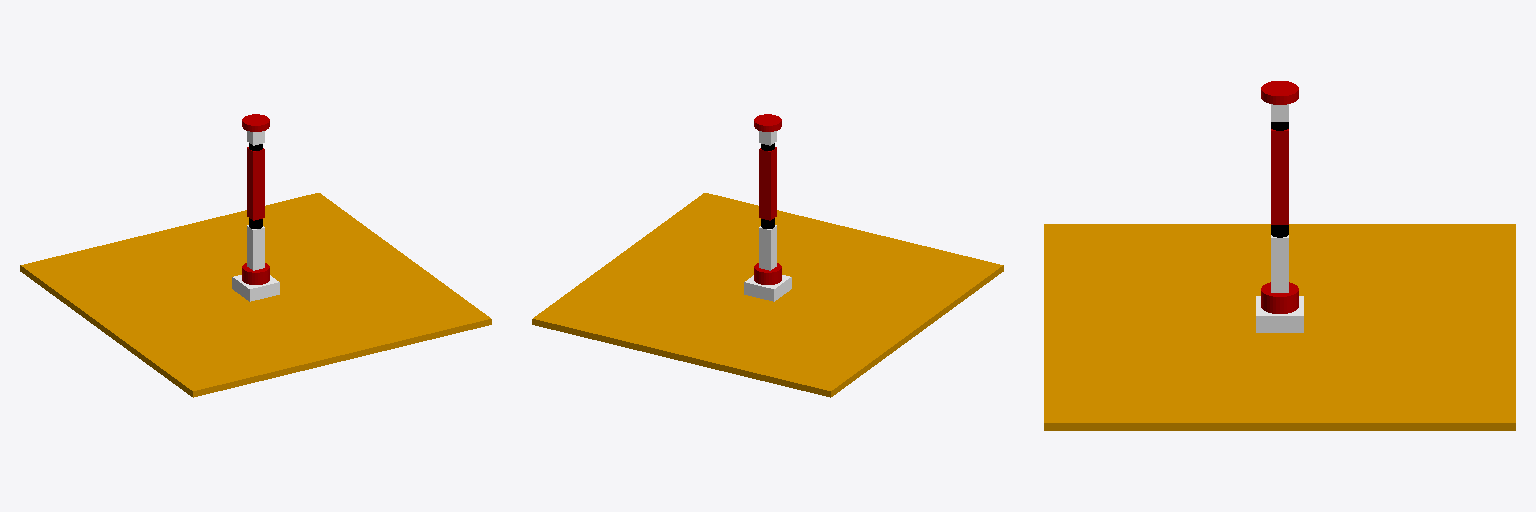
URDF robot description (seven_dof_arm):
<?xml version="1.0" ?>
<!-- =================================================================================== -->
<!-- |    This document was autogenerated by xacro from my_manipulator.urdf.xacro      | -->
<!-- |    EDITING THIS FILE BY HAND IS NOT RECOMMENDED                                 | -->
<!-- =================================================================================== -->
<robot name="seven_dof_arm">
  <!-- Include materials -->
  <material name="Black">
    <color rgba="0.0 0.0 0.0 1.0"/>
  </material>
  <material name="Red">
    <color rgba="0.8 0.0 0.0 1.0"/>
  </material>
  <material name="White">
    <color rgba="1.0 1.0 1.0 1.0"/>
  </material>
  <property name="deg_to_rad" value="0.01745329251994329577"/>
  <!-- BOTTOM FIXED LINK 
This link is the base of the arm in which arm is placed 

-->
  <!-- ///////////////////////////////////////////////////////////////////////////////////////////////////////////////////// -->
  <joint name="bottom_joint" type="fixed">
    <origin rpy="0 0 0" xyz="0 0 0"/>
    <parent link="base_link"/>
    <child link="bottom_link"/>
  </joint>
  <link name="bottom_link">
    <visual>
      <origin rpy="0 0 0" xyz=" 0 0 0.0"/>
      <geometry>
        <box size="1 1 0.02"/>
      </geometry>
      <material name="Brown"/>
    </visual>
    <collision>
      <origin rpy="0 0 0" xyz=" 0 0 0.0"/>
      <geometry>
        <box size="1 1 0.02"/>
      </geometry>
    </collision>
  </link>
  <gazebo reference="bottom_link">
    <material>Gazebo/White</material>
  </gazebo>
  <!-- ///////////////////////////////////////////////////////////////////////////////////////////////////////////////////// -->
  <!-- BASE LINK -->
  <link name="base_link">
    <visual>
      <origin rpy="0 0 0" xyz="0 0 0"/>
      <geometry>
        <box size="0.1 0.1 0.1"/>
      </geometry>
      <material name="White"/>
    </visual>
    <collision>
      <origin rpy="0 0 0" xyz="0 0 0"/>
      <geometry>
        <box size="0.1 0.1 0.1"/>
      </geometry>
    </collision>
    <inertial>
      <mass value="1"/>
      <inertia ixx="1.0" ixy="0.0" ixz="0.0" iyy="0.5" iyz="0.0" izz="1.0"/>
    </inertial>
  </link>
  <gazebo reference="base_link">
    <material>Gazebo/White</material>
  </gazebo>
  <joint name="shoulder_pan_joint" type="revolute">
    <parent link="base_link"/>
    <child link="shoulder_pan_link"/>
    <origin rpy="1.570795 0 0" xyz="0 0 0.08"/>
    <axis xyz="0 1 0"/>
    <limit effort="300" lower="-2.61799387799" upper="1.98394848567" velocity="1"/>
    <dynamics damping="50" friction="1"/>
  </joint>
  <!-- ///////////////////////////////////////////////////////////////////////////////////////////////////////////////////// -->
  <!-- SHOULDER PAN LINK -->
  <link name="shoulder_pan_link">
    <visual>
      <origin rpy="1.570795 0 0" xyz="0 -0.03 0"/>
      <geometry>
        <cylinder length="0.08" radius="0.04"/>
      </geometry>
      <material name="Red"/>
    </visual>
    <collision>
      <origin rpy="1.570795 0 0" xyz="0 -0.03 0"/>
      <geometry>
        <cylinder length="0.08" radius="0.04"/>
      </geometry>
    </collision>
    <inertial>
      <mass value="1"/>
      <inertia ixx="1.0" ixy="0.0" ixz="0.0" iyy="0.5" iyz="0.0" izz="1.0"/>
    </inertial>
  </link>
  <gazebo reference="shoulder_pan_link">
    <material>Gazebo/Red</material>
  </gazebo>
  <joint name="shoulder_pitch_joint" type="revolute">
    <parent link="shoulder_pan_link"/>
    <child link="shoulder_pitch_link"/>
    <origin rpy="-1.570795 0 0" xyz="0 0 0.0"/>
    <axis xyz="1 0 0"/>
    <limit effort="300" lower="-1.19962513147" upper="1.89994105047" velocity="1"/>
    <dynamics damping="50" friction="1"/>
  </joint>
  <link name="shoulder_pitch_link">
    <visual>
      <origin rpy="0 1.570795 0" xyz="0 0 0.07"/>
      <geometry>
        <box size="0.14 0.04 0.04"/>
      </geometry>
      <material name="White"/>
    </visual>
    <collision>
      <origin rpy="0 1.570795 0" xyz="0 0 0.07"/>
      <geometry>
        <box size="0.14 0.04 0.04"/>
      </geometry>
    </collision>
    <inertial>
      <mass value="1"/>
      <inertia ixx="1.0" ixy="0.0" ixz="0.0" iyy="0.5" iyz="0.0" izz="1.0"/>
    </inertial>
  </link>
  <gazebo reference="shoulder_pitch_link">
    <material>Gazebo/White</material>
  </gazebo>
  <joint name="elbow_roll_joint" type="revolute">
    <parent link="shoulder_pitch_link"/>
    <child link="elbow_roll_link"/>
    <origin rpy="-1.570795 0 0" xyz="0 0 0.17"/>
    <axis xyz="0 1 0"/>
    <limit effort="300" lower="-2.61799387799" upper="0.705631162427" velocity="1"/>
    <dynamics damping="50" friction="1"/>
  </joint>
  <link name="elbow_roll_link">
    <visual>
      <origin rpy="0 1.570795 1.570795" xyz="0 -0.0 0.0"/>
      <geometry>
        <cylinder length="0.06" radius="0.02"/>
      </geometry>
      <material name="Black"/>
    </visual>
    <collision>
      <origin rpy="0 1.570795 1.570795" xyz="0 -0.0 0.0"/>
      <geometry>
        <cylinder length="0.06" radius="0.02"/>
      </geometry>
    </collision>
    <inertial>
      <mass value="1"/>
      <inertia ixx="1.0" ixy="0.0" ixz="0.0" iyy="0.5" iyz="0.0" izz="1.0"/>
    </inertial>
  </link>
  <gazebo reference="elbow_roll_link">
    <material>Gazebo/Black</material>
  </gazebo>
  <joint name="elbow_pitch_joint" type="revolute">
    <parent link="elbow_roll_link"/>
    <child link="elbow_pitch_link"/>
    <origin rpy="1.570795 0 0" xyz="0 0 0"/>
    <axis xyz="1 0 0"/>
    <limit effort="300" lower="-0.4" upper="0.4" velocity="1"/>
    <dynamics damping="50" friction="1"/>
  </joint>
  <link name="elbow_pitch_link">
    <visual>
      <origin rpy="0 1.570795 0" xyz="0 0 0.11"/>
      <geometry>
        <box size="0.22 0.04 0.04"/>
      </geometry>
      <material name="Red"/>
    </visual>
    <collision>
      <origin rpy="0 1.570795 0" xyz="0 0 0.11"/>
      <geometry>
        <box size="0.22 0.04 0.04"/>
      </geometry>
    </collision>
    <inertial>
      <mass value="1"/>
      <inertia ixx="1.0" ixy="0.0" ixz="0.0" iyy="0.5" iyz="0.0" izz="1.0"/>
    </inertial>
  </link>
  <gazebo reference="elbow_pitch_link">
    <material>Gazebo/Red</material>
  </gazebo>
  <joint name="wrist_roll_joint" type="revolute">
    <parent link="elbow_pitch_link"/>
    <child link="wrist_roll_link"/>
    <origin rpy="1.570795 0 0" xyz="0.0 0 0.25"/>
    <axis xyz="0 1 0"/>
    <limit effort="300" lower="-2.61799387799" upper="2.6128806087" velocity="1"/>
    <dynamics damping="50" friction="1"/>
  </joint>
  <link name="wrist_roll_link">
    <visual>
      <origin rpy="-1.570795  0 0" xyz="0 0. 0"/>
      <geometry>
        <cylinder length="0.06" radius="0.02"/>
      </geometry>
      <material name="Black"/>
    </visual>
    <collision>
      <origin rpy="-1.570795  0 0" xyz="0 0. 0"/>
      <geometry>
        <cylinder length="0.06" radius="0.02"/>
      </geometry>
    </collision>
    <inertial>
      <mass value="1"/>
      <inertia ixx="1.0" ixy="0.0" ixz="0.0" iyy="0.5" iyz="0.0" izz="1.0"/>
    </inertial>
  </link>
  <gazebo reference="wrist_roll_link">
    <material>Gazebo/Black</material>
  </gazebo>
  <joint name="wrist_pitch_joint" type="revolute">
    <parent link="wrist_roll_link"/>
    <child link="wrist_pitch_link"/>
    <origin rpy="-1.570795 0 0" xyz="0.0 0.0 0."/>
    <axis xyz="1 0 0"/>
    <limit effort="300" lower="-1.5953400194" upper="1.98394848567" velocity="1"/>
    <dynamics damping="50" friction="1"/>
  </joint>
  <link name="wrist_pitch_link">
    <visual>
      <origin rpy="1.570795 1.570795 0" xyz="0 0 0.02"/>
      <geometry>
        <box size="0.06 0.04 0.04"/>
      </geometry>
      <material name="White"/>
    </visual>
    <collision>
      <origin rpy="1.570795 1.570795 0" xyz="0 0 0.02"/>
      <geometry>
        <box size="0.06 0.04 0.04"/>
      </geometry>
    </collision>
    <inertial>
      <mass value="1"/>
      <inertia ixx="1.0" ixy="0.0" ixz="0.0" iyy="0.5" iyz="0.0" izz="1.0"/>
    </inertial>
  </link>
  <gazebo reference="wrist_pitch_link">
    <material>Gazebo/White</material>
  </gazebo>
  <joint name="gripper_roll_joint" type="revolute">
    <parent link="wrist_pitch_link"/>
    <child link="gripper_roll_link"/>
    <origin rpy="0 0 0" xyz="0 0 0.04"/>
    <axis xyz="0 0 1"/>
    <limit effort="300" lower="-2.61799387799" upper="2.6128806087" velocity="1"/>
    <dynamics damping="50" friction="1"/>
  </joint>
  <!-- ///////////////////////////////////////////////////////////////////////////////////////////////////////////////////// -->
  <!-- GRIPPER ROLL LINK -->
  <link name="gripper_roll_link">
    <visual>
      <origin rpy="0 0 0" xyz="0.0 0 0.01"/>
      <geometry>
        <cylinder length="0.02" radius="0.04"/>
      </geometry>
      <material name="Red"/>
    </visual>
    <collision>
      <origin rpy="0 0 0" xyz="0.0 0 0.01"/>
      <geometry>
        <cylinder length="0.02" radius="0.04"/>
      </geometry>
    </collision>
    <inertial>
      <mass value="1"/>
      <inertia ixx="1.0" ixy="0.0" ixz="0.0" iyy="0.5" iyz="0.0" izz="1.0"/>
    </inertial>
  </link>
  <gazebo reference="gripper_roll_link">
    <material>Gazebo/Red</material>
  </gazebo>
  <!-- ///////////////////////////////////////////////////////////////////////////////////////////////////////////////////// -->
  <!-- ///////////////////////////////////////////////////////////////////////////////////////////////////////////////////// -->
  <!-- RIGHT GRIPPER AFT LINK -->
  <!--   <xacro:include filename="$(find robot7dof_description)/urdf/sensors/xtion_pro_live.urdf.xacro"/> -->
  <!-- ///////////////////////////////////////////////////////////////////////////////////////////////////////////////////// -->
  <!-- Transmissions for ROS Control -->
  <transmission name="tran1">
    <type>transmission_interface/SimpleTransmission</type>
    <joint name="shoulder_pan_joint">
      <hardwareInterface>PositionJointInterface</hardwareInterface>
    </joint>
    <actuator name="motor1">
      <hardwareInterface>PositionJointInterface</hardwareInterface>
      <mechanicalReduction>1</mechanicalReduction>
    </actuator>
  </transmission>
  <transmission name="tran2">
    <type>transmission_interface/SimpleTransmission</type>
    <joint name="shoulder_pitch_joint">
      <hardwareInterface>PositionJointInterface</hardwareInterface>
    </joint>
    <actuator name="motor2">
      <hardwareInterface>PositionJointInterface</hardwareInterface>
      <mechanicalReduction>1</mechanicalReduction>
    </actuator>
  </transmission>
  <transmission name="tran3">
    <type>transmission_interface/SimpleTransmission</type>
    <joint name="elbow_roll_joint">
      <hardwareInterface>PositionJointInterface</hardwareInterface>
    </joint>
    <actuator name="motor3">
      <hardwareInterface>PositionJointInterface</hardwareInterface>
      <mechanicalReduction>1</mechanicalReduction>
    </actuator>
  </transmission>
  <transmission name="tran4">
    <type>transmission_interface/SimpleTransmission</type>
    <joint name="elbow_pitch_joint">
      <hardwareInterface>PositionJointInterface</hardwareInterface>
    </joint>
    <actuator name="motor4">
      <hardwareInterface>PositionJointInterface</hardwareInterface>
      <mechanicalReduction>1</mechanicalReduction>
    </actuator>
  </transmission>
  <transmission name="tran5">
    <type>transmission_interface/SimpleTransmission</type>
    <joint name="wrist_roll_joint">
      <hardwareInterface>PositionJointInterface</hardwareInterface>
    </joint>
    <actuator name="motor5">
      <hardwareInterface>PositionJointInterface</hardwareInterface>
      <mechanicalReduction>1</mechanicalReduction>
    </actuator>
  </transmission>
  <transmission name="tran6">
    <type>transmission_interface/SimpleTransmission</type>
    <joint name="wrist_pitch_joint">
      <hardwareInterface>PositionJointInterface</hardwareInterface>
    </joint>
    <actuator name="motor6">
      <hardwareInterface>PositionJointInterface</hardwareInterface>
      <mechanicalReduction>1</mechanicalReduction>
    </actuator>
  </transmission>
  <transmission name="tran7">
    <type>transmission_interface/SimpleTransmission</type>
    <joint name="gripper_roll_joint">
      <hardwareInterface>PositionJointInterface</hardwareInterface>
    </joint>
    <actuator name="motor7">
      <hardwareInterface>PositionJointInterface</hardwareInterface>
      <mechanicalReduction>1</mechanicalReduction>
    </actuator>
  </transmission>
  <!-- Definizione della base qui -->
  <!-- Definizione della base qui -->
  <!-- Definizione del braccio qui -->
</robot>

--- What the picture shows (computed from the rendered views, not written in the file) ---
3 views of the same robot in one strip: view 1: azimuth 30°, elevation 25°; view 2: azimuth 150°, elevation 25°; view 3: azimuth 270°, elevation 25° (orthographic).
Model seven_dof_arm with 9 links and 8 joints (7 revolute, 1 fixed), rooted at base_link, posed all joints at 0.
Visible links, largest first — view 1: bottom_link, elbow_pitch_link, base_link, shoulder_pitch_link; view 2: bottom_link, elbow_pitch_link, base_link, shoulder_pitch_link; view 3: bottom_link, elbow_pitch_link, base_link, shoulder_pitch_link, shoulder_pan_link, gripper_roll_link.
Boxes of the visible links, x1,y1,x2,y2 form: bottom_link: [20, 193, 491, 397]; elbow_pitch_link: [247, 147, 264, 220]; base_link: [232, 275, 279, 301]; shoulder_pitch_link: [247, 225, 264, 270]; bottom_link: [532, 193, 1003, 397]; elbow_pitch_link: [759, 147, 776, 220]; base_link: [744, 275, 791, 301]; shoulder_pitch_link: [759, 225, 776, 270]; bottom_link: [1044, 224, 1515, 430]; elbow_pitch_link: [1271, 129, 1288, 224]; base_link: [1256, 296, 1303, 332]; shoulder_pitch_link: [1271, 235, 1288, 292]; shoulder_pan_link: [1261, 282, 1298, 313]; gripper_roll_link: [1261, 81, 1298, 104].
Bounding box of the posed robot: 1 × 1 × 0.61 m (x, y, z).
Geometry: primitives only (box / cylinder / sphere), no mesh files.
